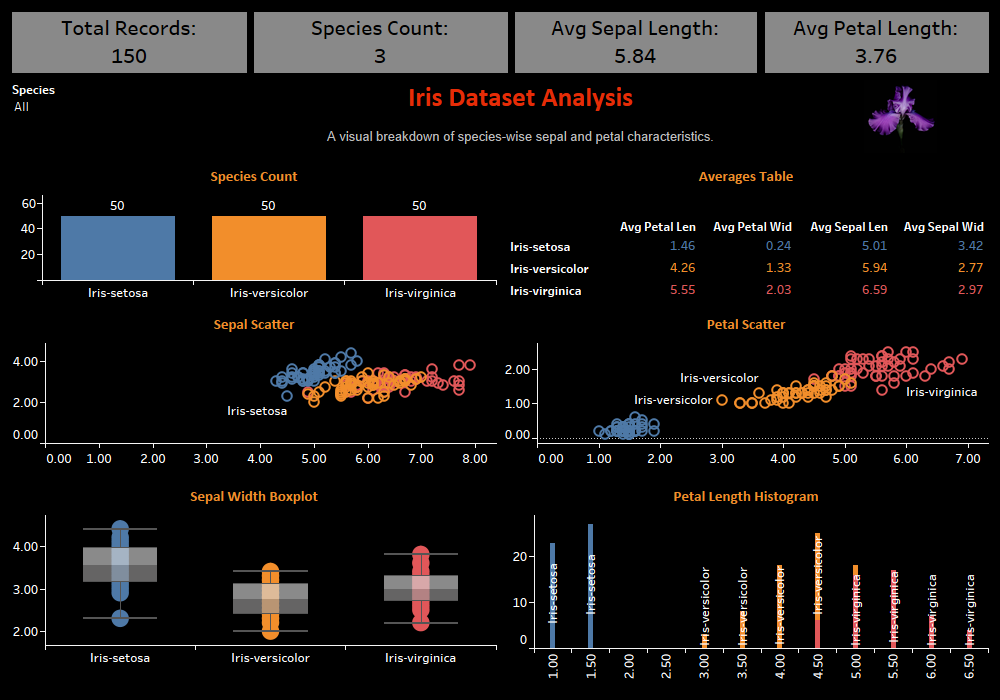

Layout of this report page (visuals, bound fields, positions):
{"tool":"tableau","page":{"name":"Dashboard 1","canvas":[1000,700],"ordinal":0},"visuals":[{"type":"worksheet","title":"Total Records KPI","mark":"Text","box":[8,8,242,68]},{"type":"worksheet","title":"Species Count KPI","mark":"Text","box":[250,8,261,68]},{"type":"worksheet","title":"Avg Sepal Length KPI","mark":"Text","box":[511,8,250,68]},{"type":"worksheet","title":"Avg Petal Length KPI","mark":"Text","box":[761,8,231,68]},{"type":"filter","title":"Species Count","param":"[federated.00hraqh09qo4pz1bo0cyc0sm6rik].[none:Species:nk]","box":[8,76,224,81]},{"type":"text","box":[232,76,577,40.5]},{"type":"image","param":"C:/Users/Md Aakib Akhtar/Downloads/Iris.jpg","box":[809,76,183,81]},{"type":"text","box":[232,116.5,577,40.5]},{"type":"worksheet","title":"Species Count","mark":"Automatic","rows":["Number of Records"],"cols":["Species"],"box":[8,157,492,148]},{"type":"worksheet","title":"Averages Table","mark":"Automatic","rows":["Species"],"box":[500,157,492,148]},{"type":"worksheet","title":"Sepal Scatter","mark":"Automatic","rows":["SepalWidthCm"],"cols":["SepalLengthCm"],"box":[8,305,492,172]},{"type":"worksheet","title":"Petal Scatter","mark":"Automatic","rows":["PetalWidthCm"],"cols":["PetalLengthCm"],"box":[500,305,492,172]},{"type":"worksheet","title":"Sepal Width Boxplot","mark":"Pie","rows":["SepalWidthCm"],"cols":["Species"],"box":[8,477,492,215]},{"type":"worksheet","title":"Petal Length Histogram","mark":"Bar","rows":["Number of Records"],"cols":["PetalLengthCm (bin)"],"box":[500,477,492,215]}]}

Visuals, with their boxes in screenshot pixels (x1, y1, x2, y2), scaled from the page's 1000x700 canvas onto the 1000x700 screenshot:
"Total Records KPI" worksheet (Text marks): [x1=8, y1=8, x2=250, y2=76]
"Species Count KPI" worksheet (Text marks): [x1=250, y1=8, x2=511, y2=76]
"Avg Sepal Length KPI" worksheet (Text marks): [x1=511, y1=8, x2=761, y2=76]
"Avg Petal Length KPI" worksheet (Text marks): [x1=761, y1=8, x2=992, y2=76]
"Species Count" filter: [x1=8, y1=76, x2=232, y2=157]
text: [x1=232, y1=76, x2=809, y2=116]
image: [x1=809, y1=76, x2=992, y2=157]
text: [x1=232, y1=116, x2=809, y2=157]
"Species Count" worksheet: [x1=8, y1=157, x2=500, y2=305]
"Averages Table" worksheet: [x1=500, y1=157, x2=992, y2=305]
"Sepal Scatter" worksheet: [x1=8, y1=305, x2=500, y2=477]
"Petal Scatter" worksheet: [x1=500, y1=305, x2=992, y2=477]
"Sepal Width Boxplot" worksheet (Pie marks): [x1=8, y1=477, x2=500, y2=692]
"Petal Length Histogram" worksheet (Bar marks): [x1=500, y1=477, x2=992, y2=692]
